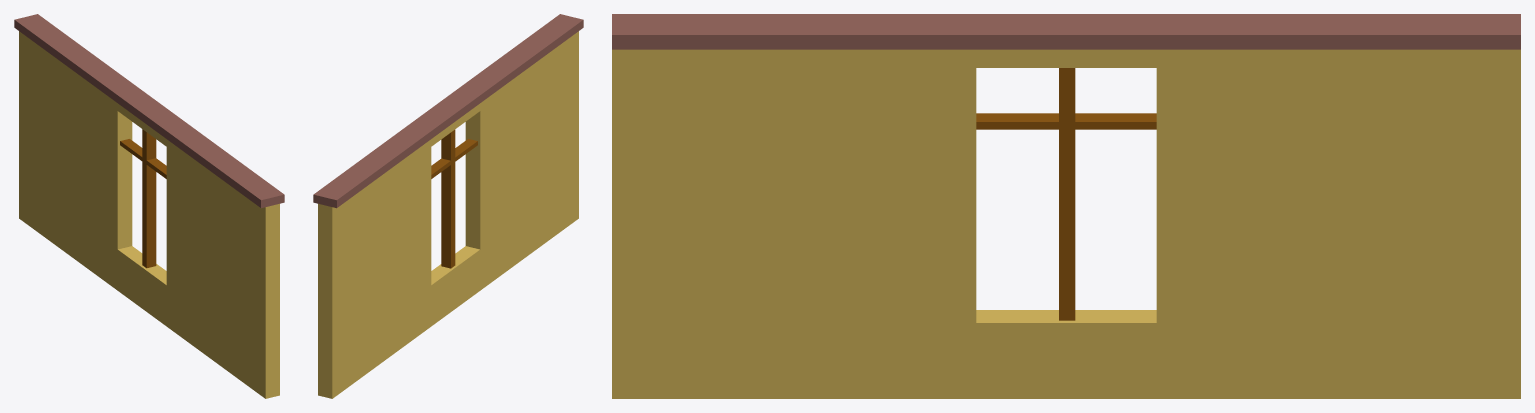
The model's file is Wall02.fbx.
The picture shows the model from 3 angles, left to right: view 1: azimuth 30°, elevation 25°; view 2: azimuth 150°, elevation 25°; view 3: azimuth 270°, elevation 25°; orthographic projection. The views are drawn at different scales.
Parts seen in each view (by area): view 1: Wall02; view 2: Wall02; view 3: Wall02.
Boxes of the visible parts, x1,y1,x2,y2 form: Wall02: (14,14,284,398); Wall02: (313,14,583,398); Wall02: (612,14,1520,398).
Bounding box in the file's own units: 11.96 × 97.56 × 218.
